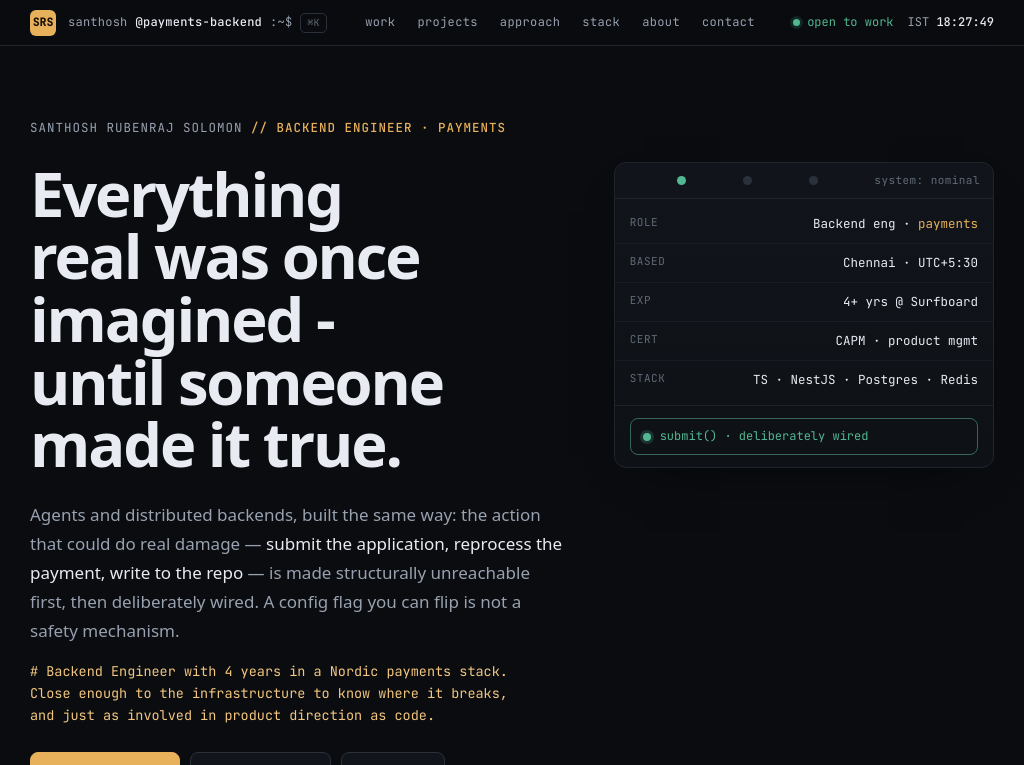
Scenario: opening and closing › is closed initially and opens from the status-bar button
Click the button titled "Command palette (⌘K)".
click(197, 22)  # box [68,12,327,32]
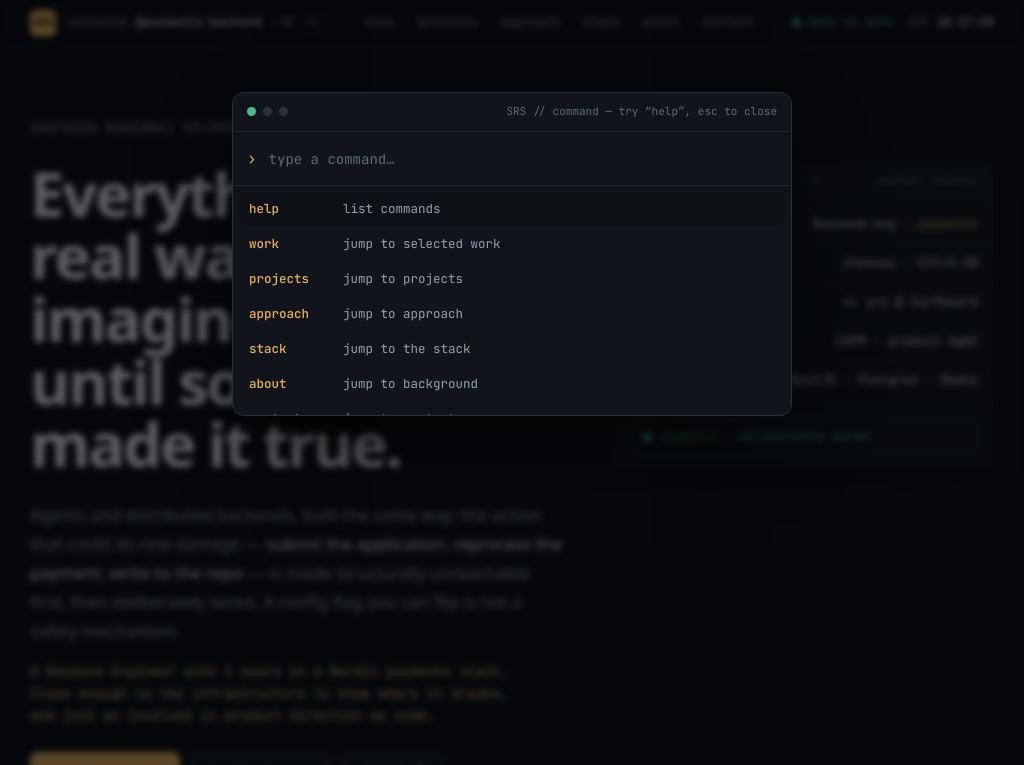
expect the dialog named "Command palette" is shown: met, box [232,92,792,416]
